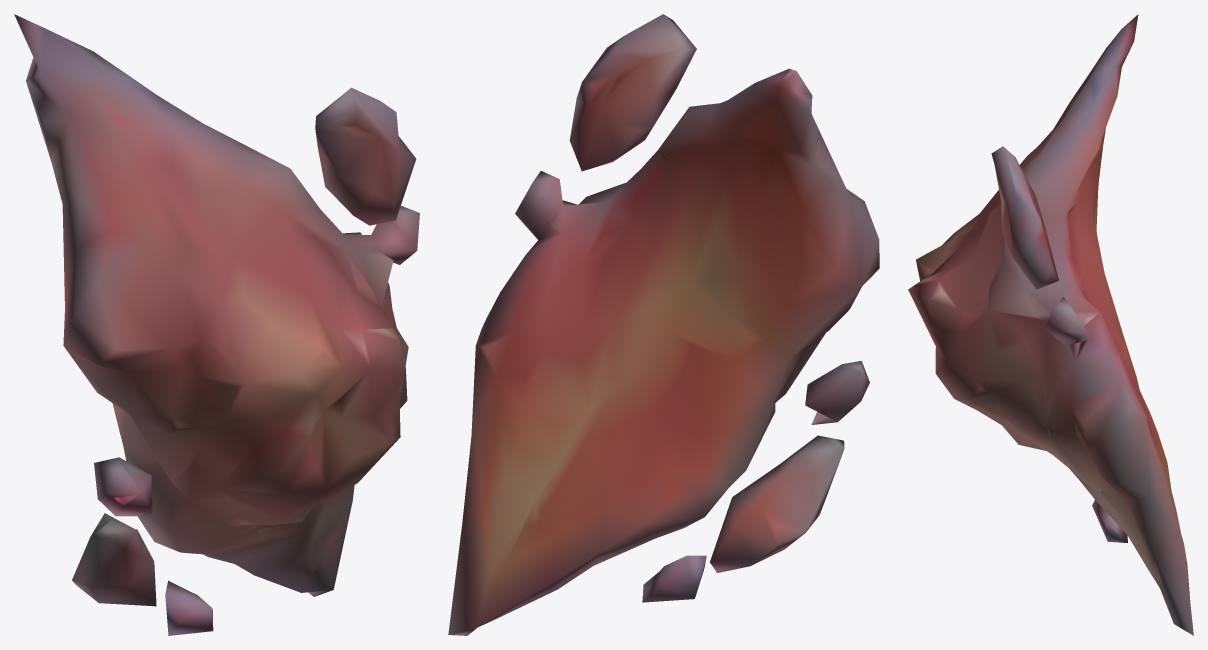
The model's file is nota_do_sustenido.glb.
The picture shows the model from 3 angles, left to right: view 1: azimuth 30°, elevation 25°; view 2: azimuth 150°, elevation 25°; view 3: azimuth 270°, elevation 25°; orthographic projection. The views are drawn at different scales.
Bounding box in the file's own units: 0.5597 × 0.9706 × 0.505.
